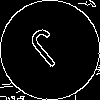J: (25, 25, 74, 77)
